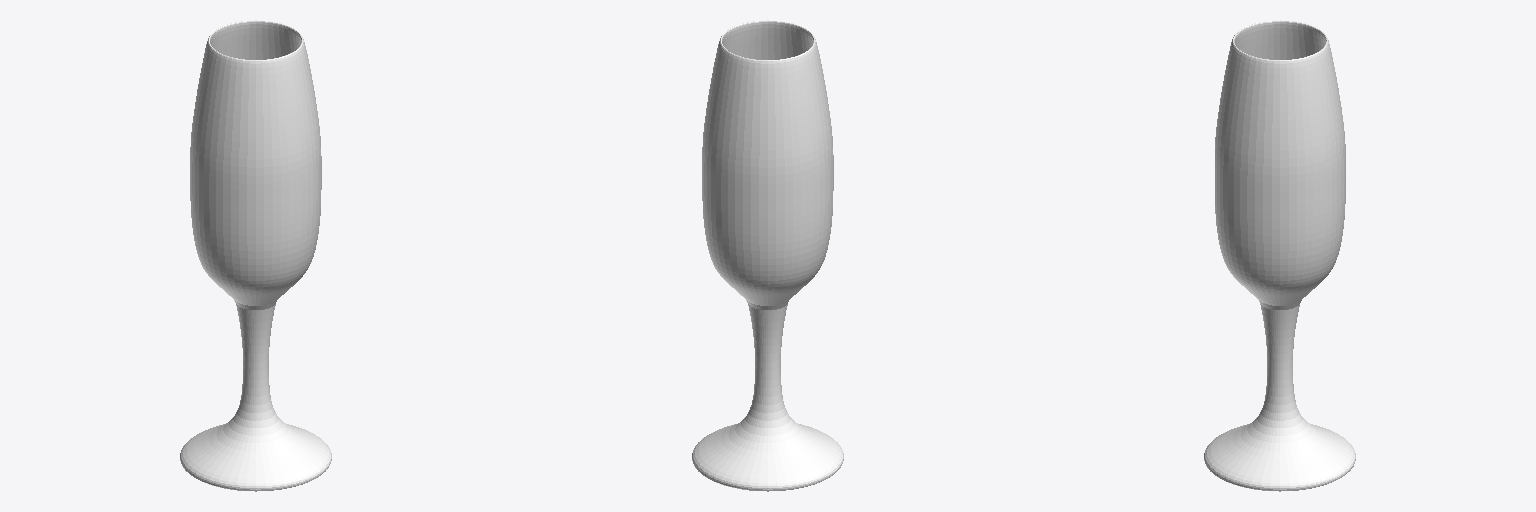
The robot description file, URDF, robot "apple":
<?xml version="0.0" ?>
<robot name="apple">
  <link name="baseLink">
    <contact>
      <lateral_friction value="1.0"/>
      <rolling_friction value="0.0"/>
      <contact_cfm value="0.0"/>
      <contact_erp value="1.0"/>
    </contact>
    <inertial>
      <origin rpy="1.57 0 0" xyz="0 0 -0.0"/>
       <mass value=".1"/>
       <inertia ixx="1" ixy="0" ixz="0" iyy="1" iyz="0" izz="1"/>
    </inertial>
    <visual>
      <origin rpy="1.57 0 0" xyz="0 0 0"/>
      <geometry>
        <mesh filename="meshes/notextures/glass2.obj" scale="0.08 0.08 0.08"/>
      </geometry>
      <material name="glass">
        <color rgba="1 1 1 1"/>
      </material>
    </visual>
    <collision>
      <origin rpy="1.57 0 0" xyz="0 0 0"/>
      <geometry>
	 	<mesh filename="meshes/notextures/glass2.obj" scale="0.08 0.08 0.08"/>
      </geometry>
    </collision>
  </link>
</robot>

--- Render facts (derived) ---
The picture shows the robot from 3 angles, left to right: view 1: azimuth 30°, elevation 25°; view 2: azimuth 150°, elevation 25°; view 3: azimuth 270°, elevation 25°; orthographic projection.
Robot: apple — 1 links, 0 joints (none); root link baseLink; default pose: all joints at 0.
Visible links, largest first — view 1: baseLink; view 2: baseLink; view 3: baseLink.
Boxes of the visible links, bbox=[...] form: baseLink: bbox=[180, 20, 331, 491]; baseLink: bbox=[692, 20, 843, 491]; baseLink: bbox=[1204, 20, 1355, 491].
Size in the robot's own frame: 0.0548 by 0.0548 by 0.1679 metres.
1 mesh visuals loaded from 1 distinct referenced files (1 OBJ).
